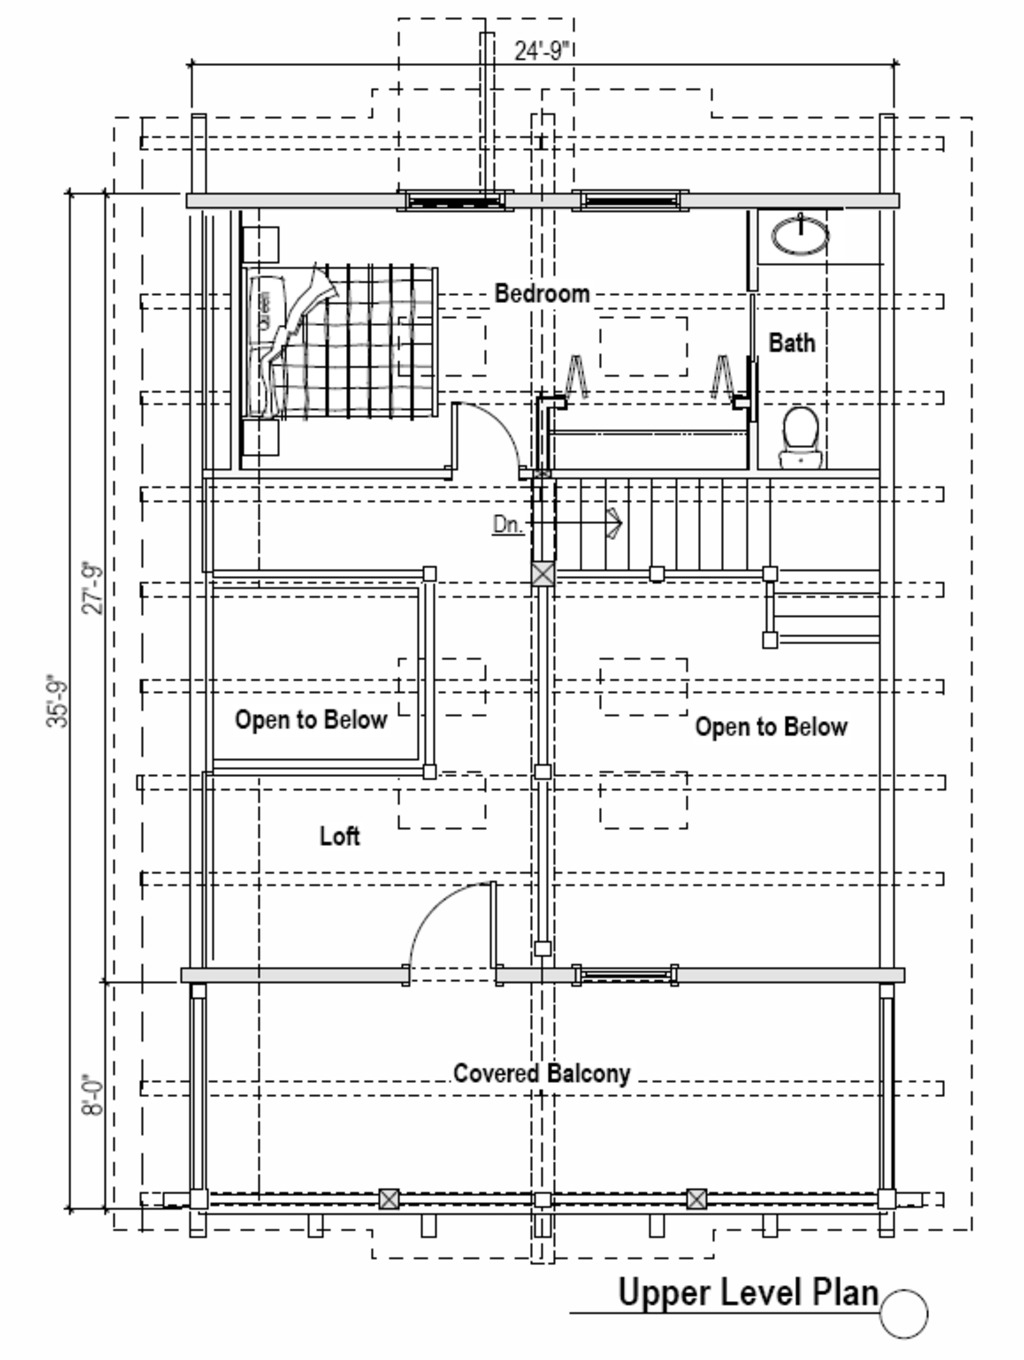bed: (248, 257, 455, 423)
door: (403, 878, 526, 998), (428, 392, 528, 505)
large_sink: (753, 373, 836, 469)
small_sink: (763, 211, 869, 264)
stairs: (521, 475, 790, 592)
window: (563, 180, 696, 223), (398, 180, 521, 223)
